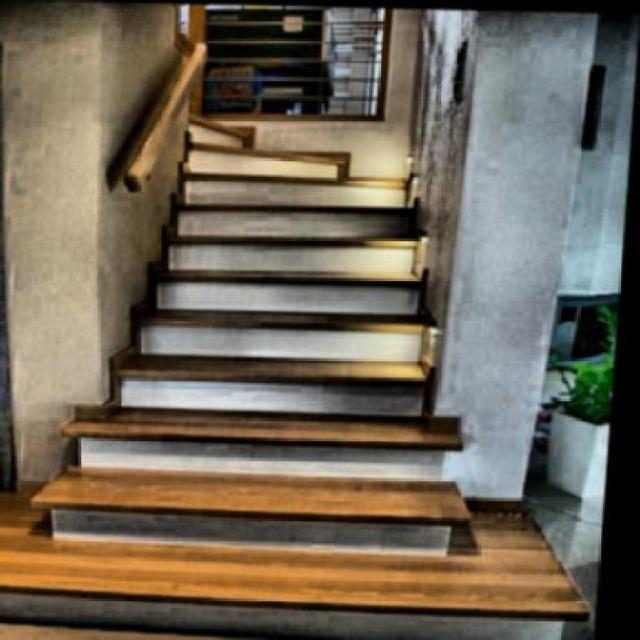stair: (31, 130, 484, 564)
